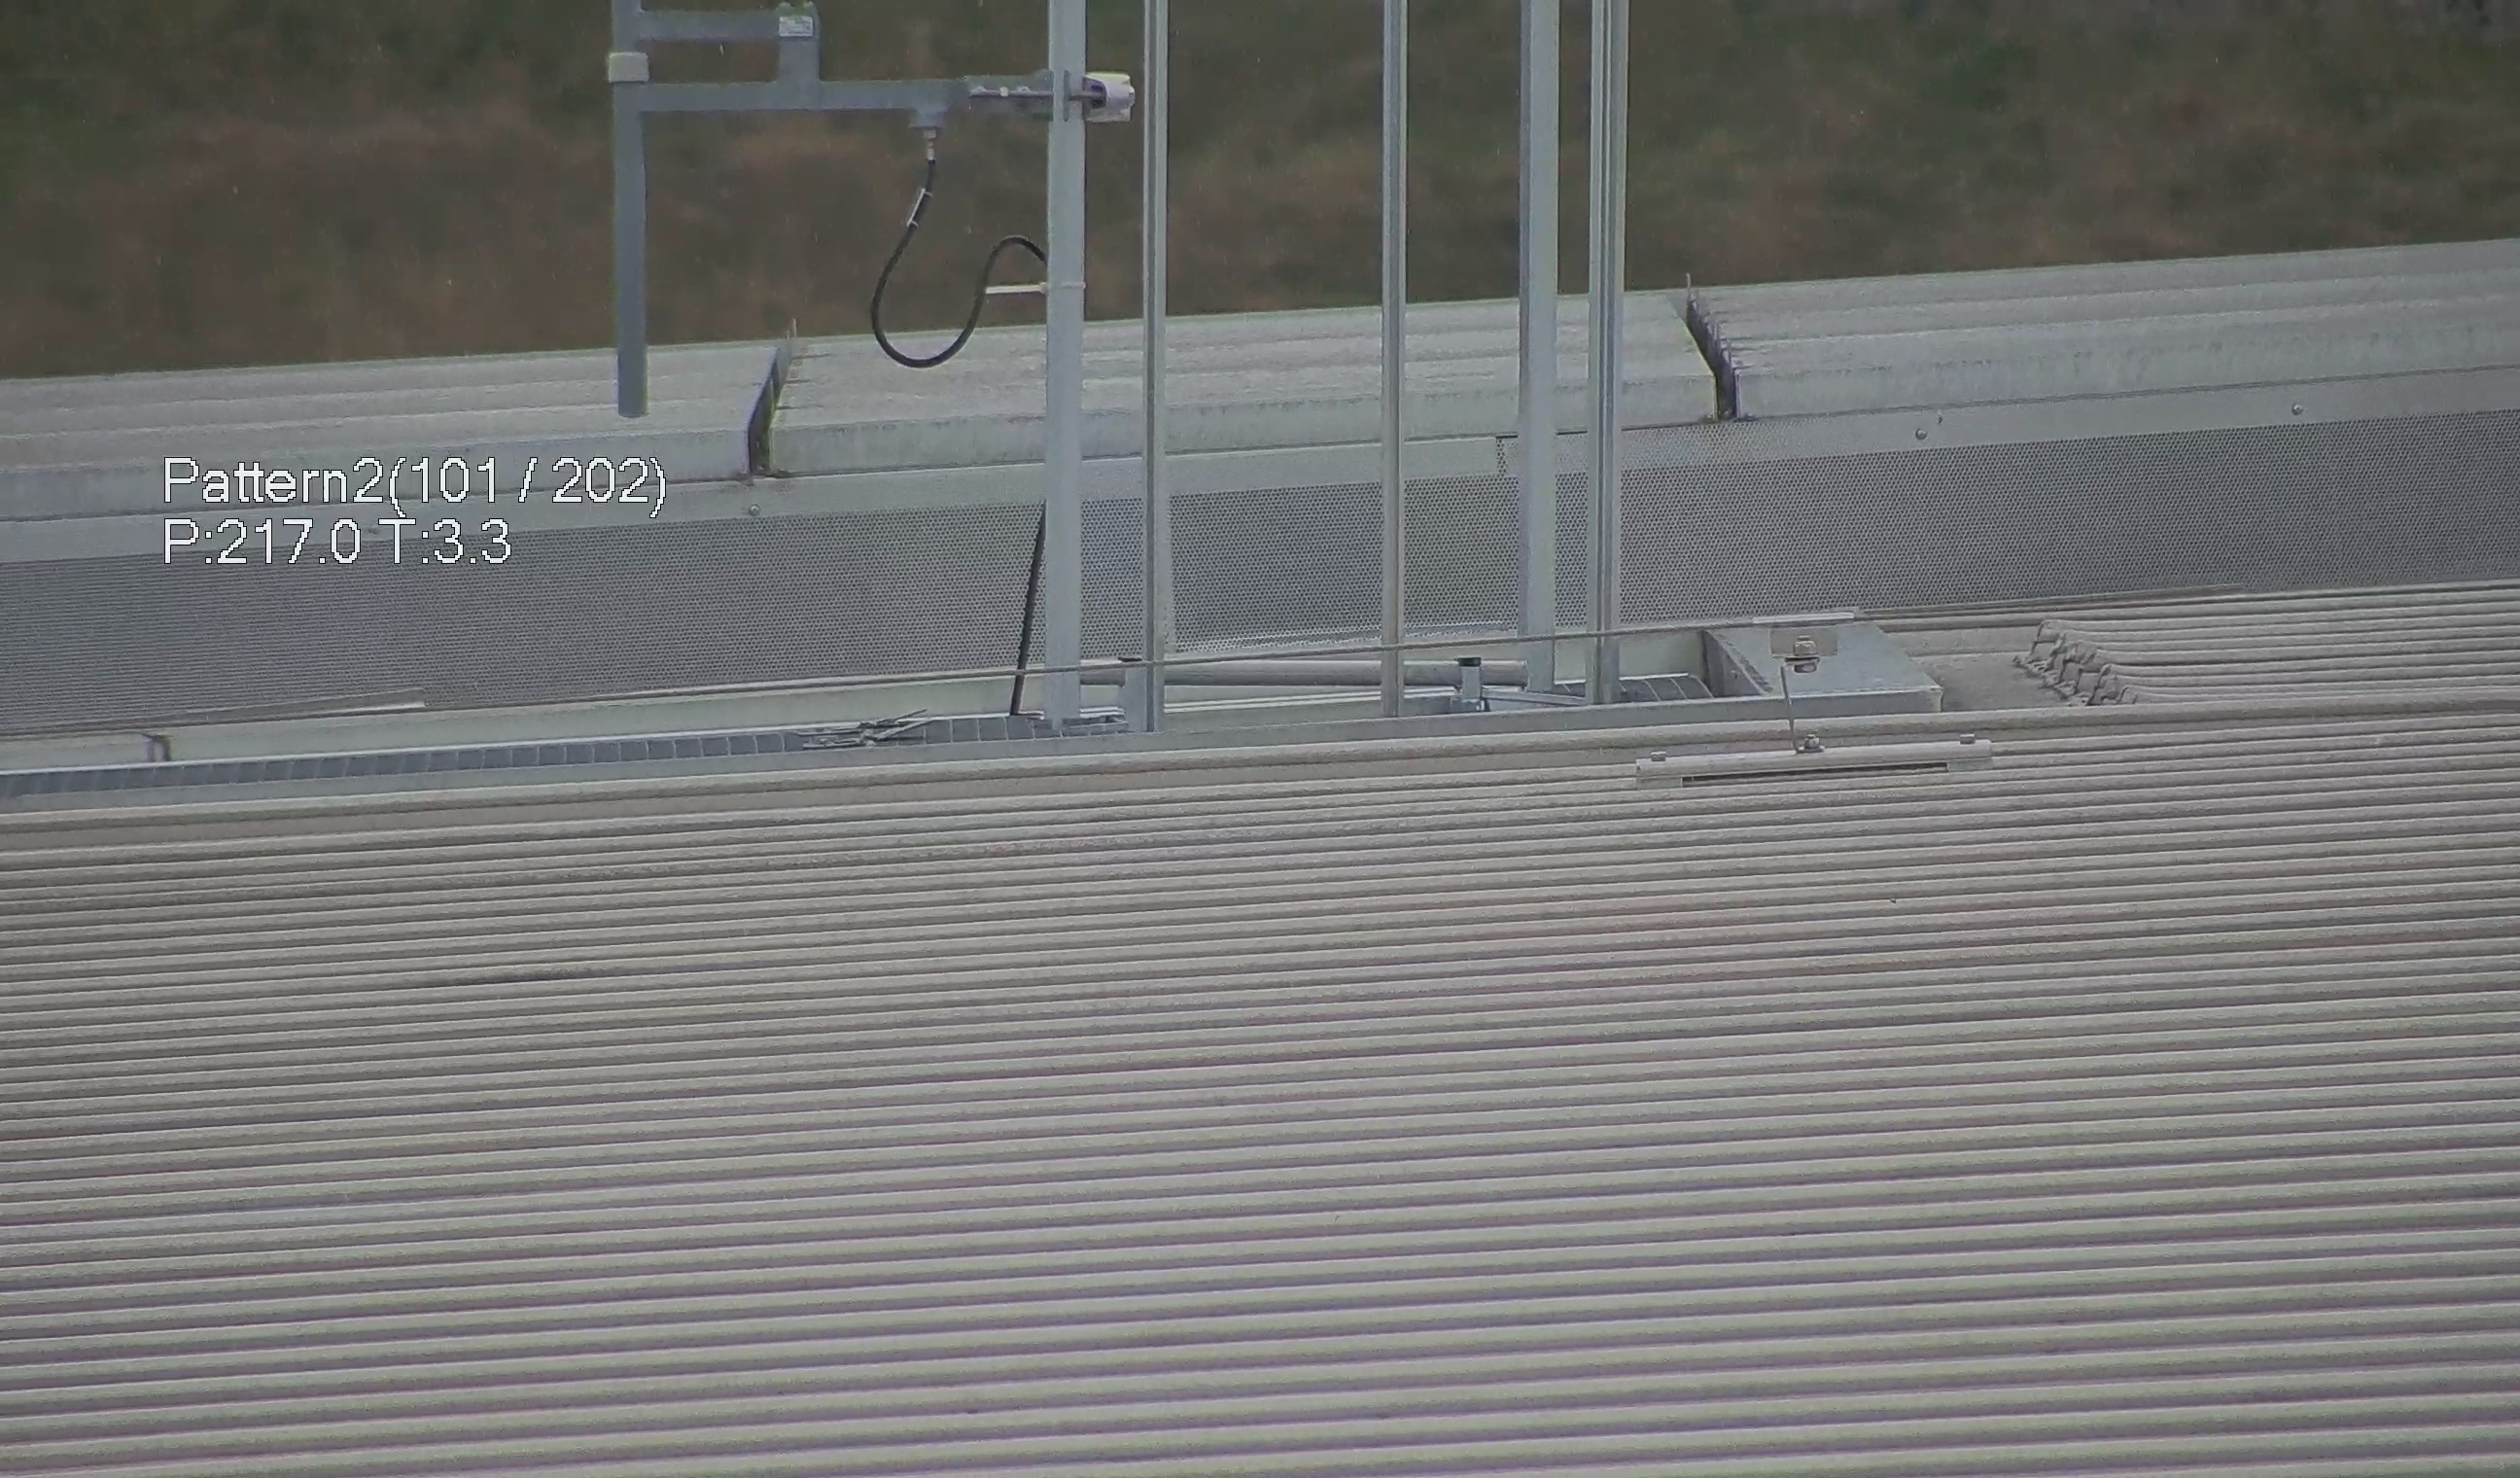Other: (1660, 264, 1769, 419)
